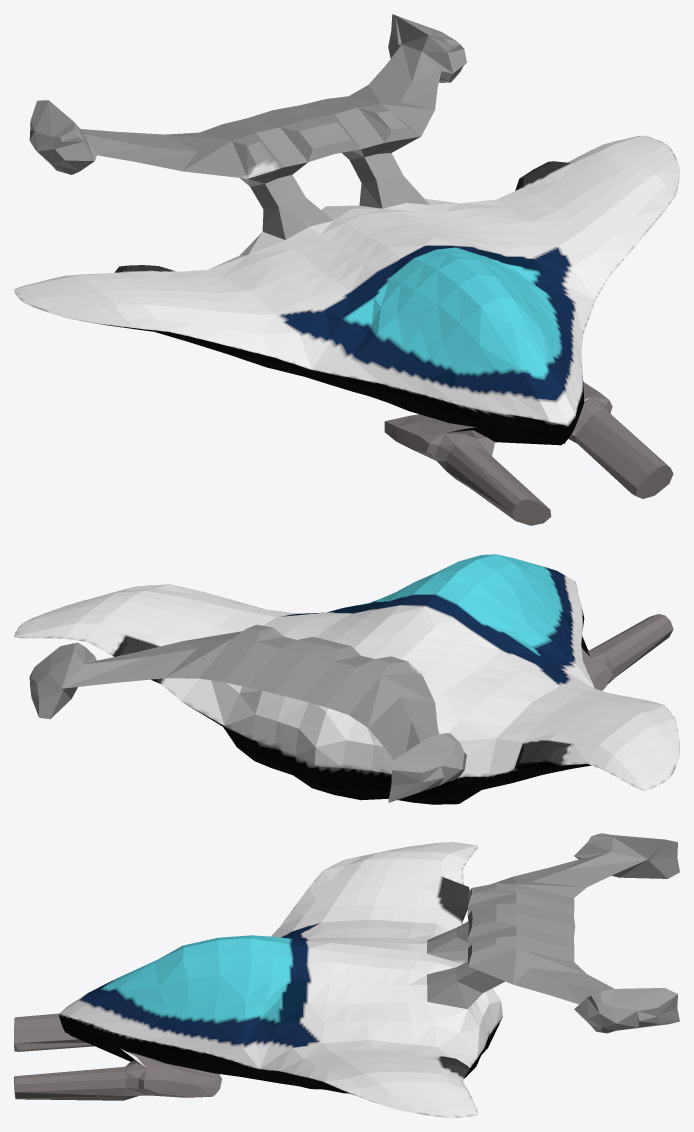
File: spaceship 7 texture 6.FBX
3 renders of one model, top to bottom at view 1: azimuth 30°, elevation 25°; view 2: azimuth 150°, elevation 25°; view 3: azimuth 270°, elevation 25°, orthographic. The views are drawn at different scales.
Visible parts, largest first — view 1: Object002; view 2: Object002; view 3: Object002.
Boxes of the visible parts, x1,y1,x2,y2 form: Object002: (14,14,679,525); Object002: (14,554,679,804); Object002: (14,833,679,1117).
Size of the model in its own units: 143 by 39 by 146.
